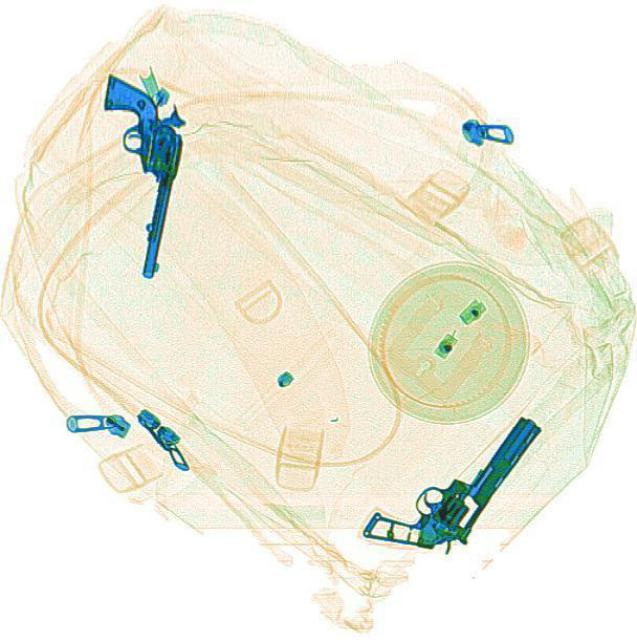Gun: (357, 378, 545, 582), (68, 69, 193, 281)
